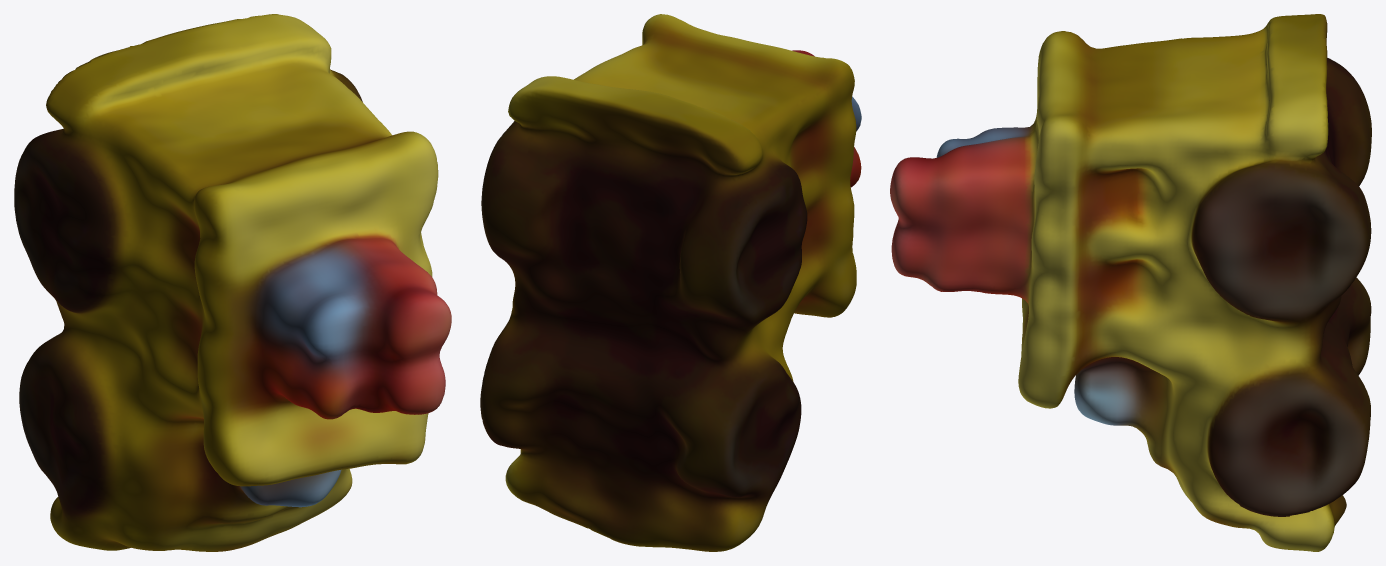
File: school_bus2.glb
The picture shows the model from 3 angles, left to right: view 1: azimuth 30°, elevation 25°; view 2: azimuth 150°, elevation 25°; view 3: azimuth 270°, elevation 25°; orthographic projection. The views are drawn at different scales.
Bounding box in the file's own units: 0.6467 × 0.9996 × 0.9436.
